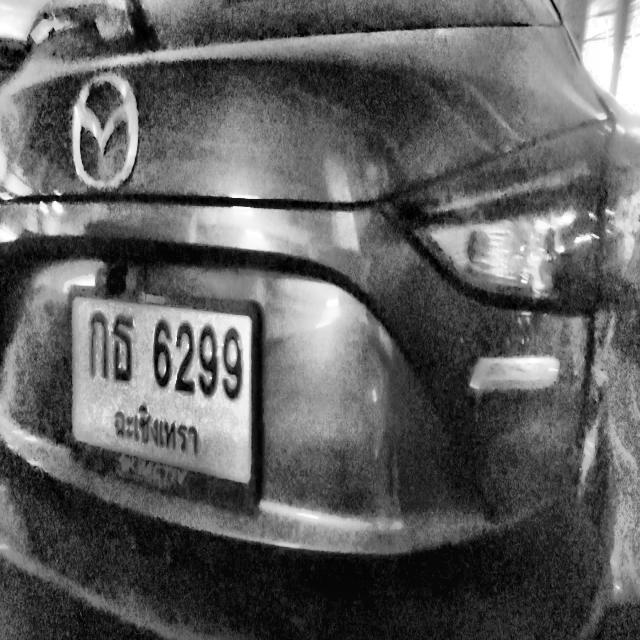license-plate: (74, 292, 253, 485)
